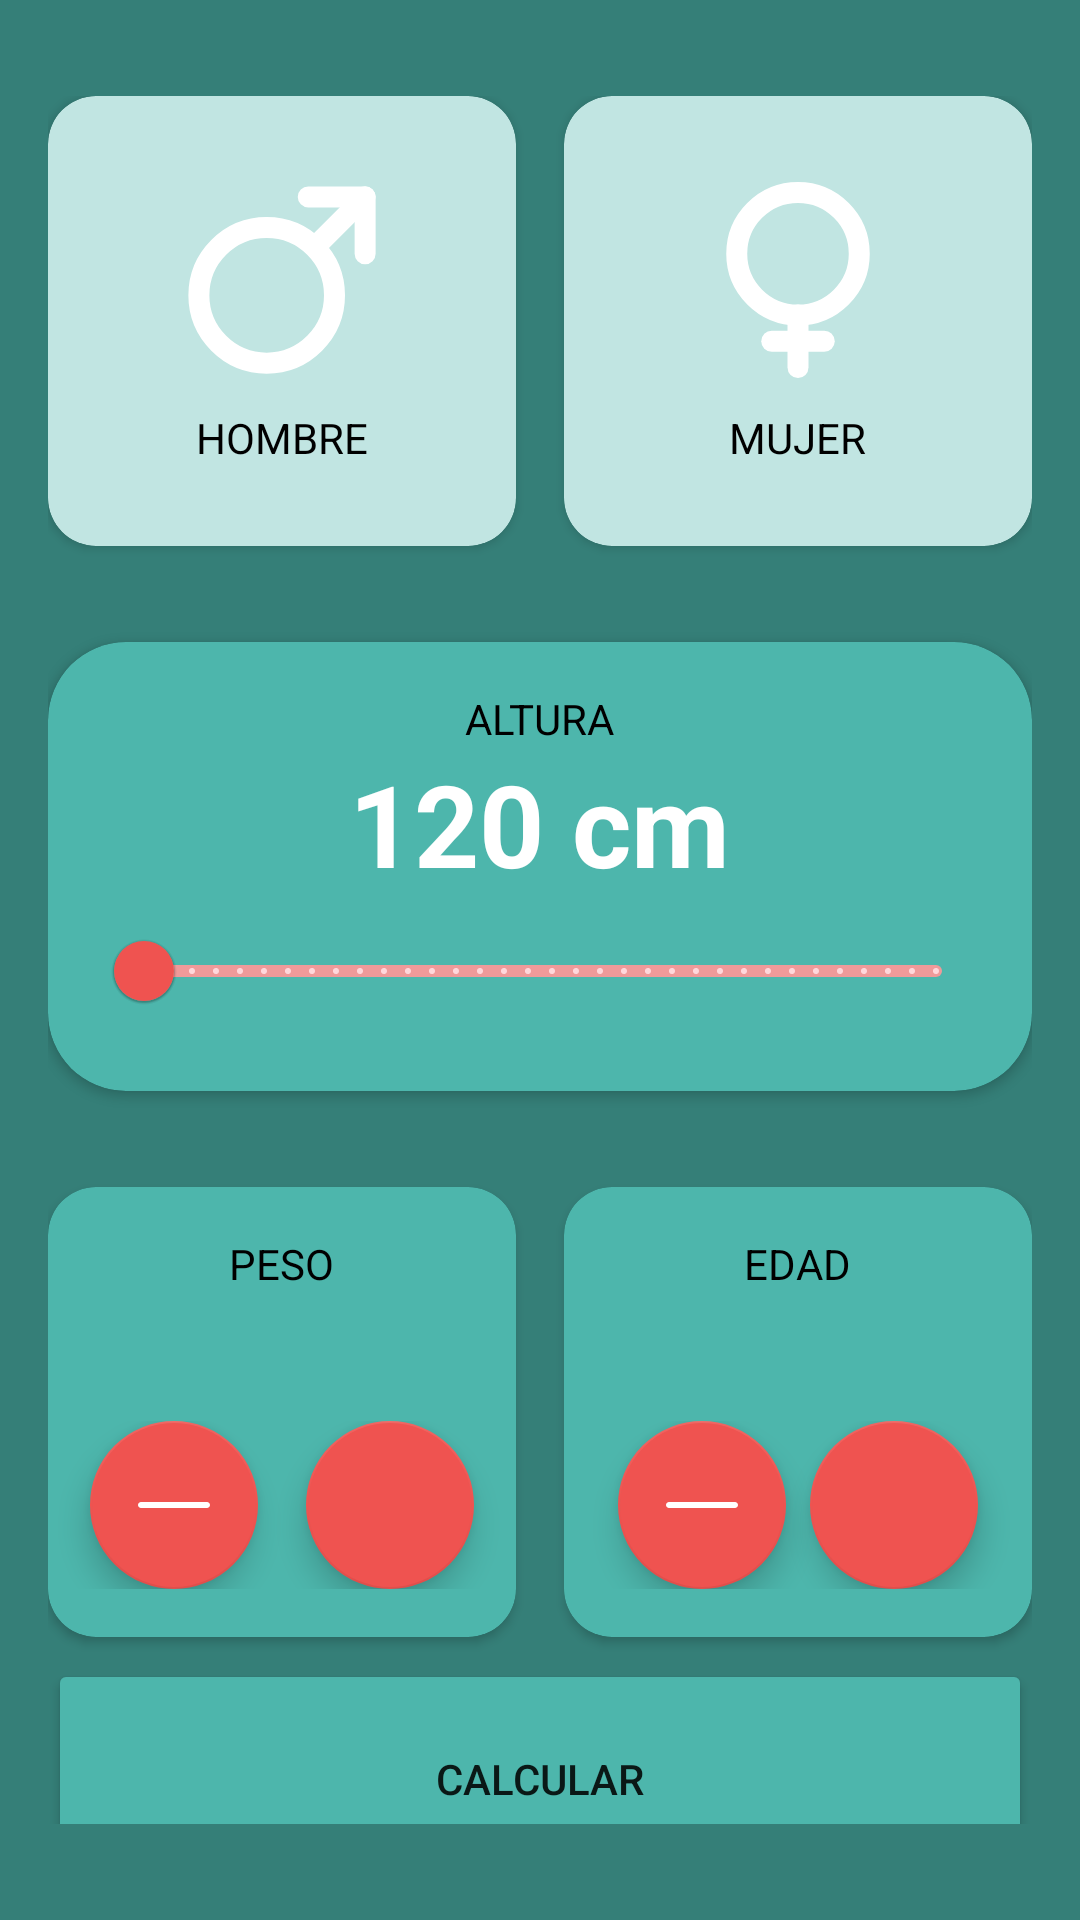

Icons on this 1080px x 1920px Android screen, each with the point to tap as (x=x, y=y):
substract: (x=174, y=1505), (x=702, y=1505)
